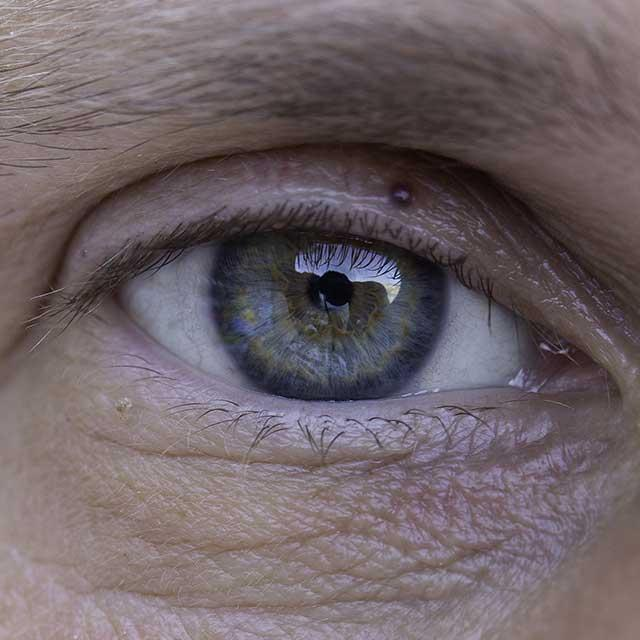eye: (122, 228, 538, 404)
iris: (213, 231, 448, 398)
